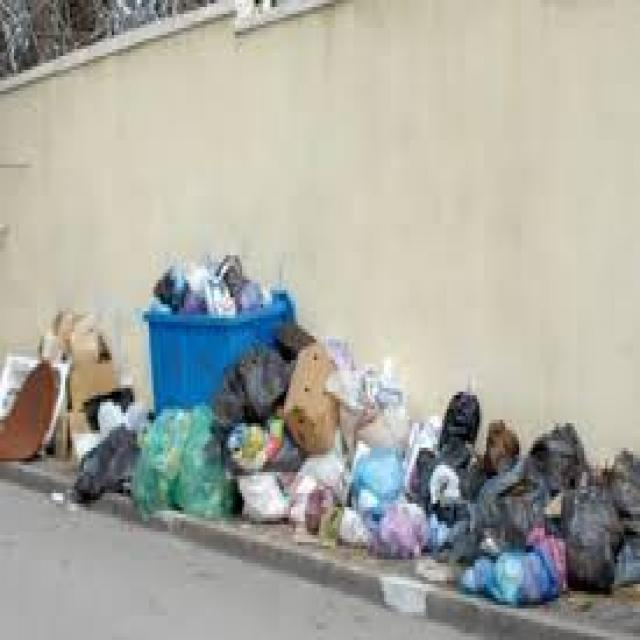garbage: (207, 322, 640, 608), (0, 300, 136, 516), (130, 400, 236, 532), (136, 248, 276, 322)
